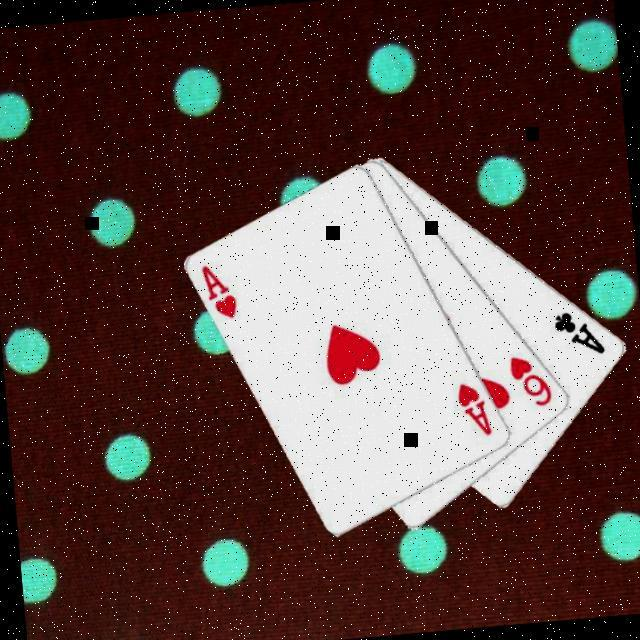6H: (504, 351, 555, 413)
AC: (549, 305, 608, 362)
AH: (197, 261, 240, 324), (453, 378, 494, 441)
